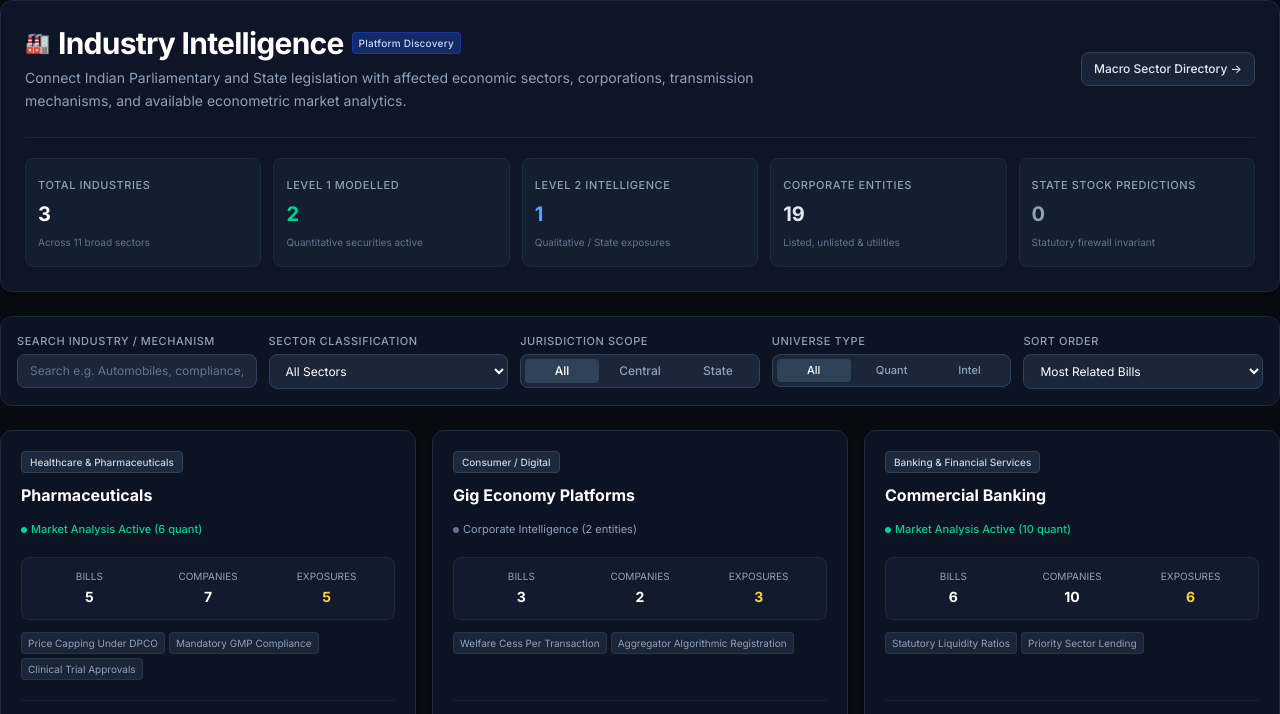
Test: IndustriesContent (Industry Discovery Page) › filters industries by jurisdiction tab and shows statutory notice
The width and height of the screenshot is (1280, 714).
Expected: the link "Commercial Banking" is shown, [885,485,1046,505]
Note: Click "State" filter button
Click the button "State" at (718, 371), box [681,359,755,383]
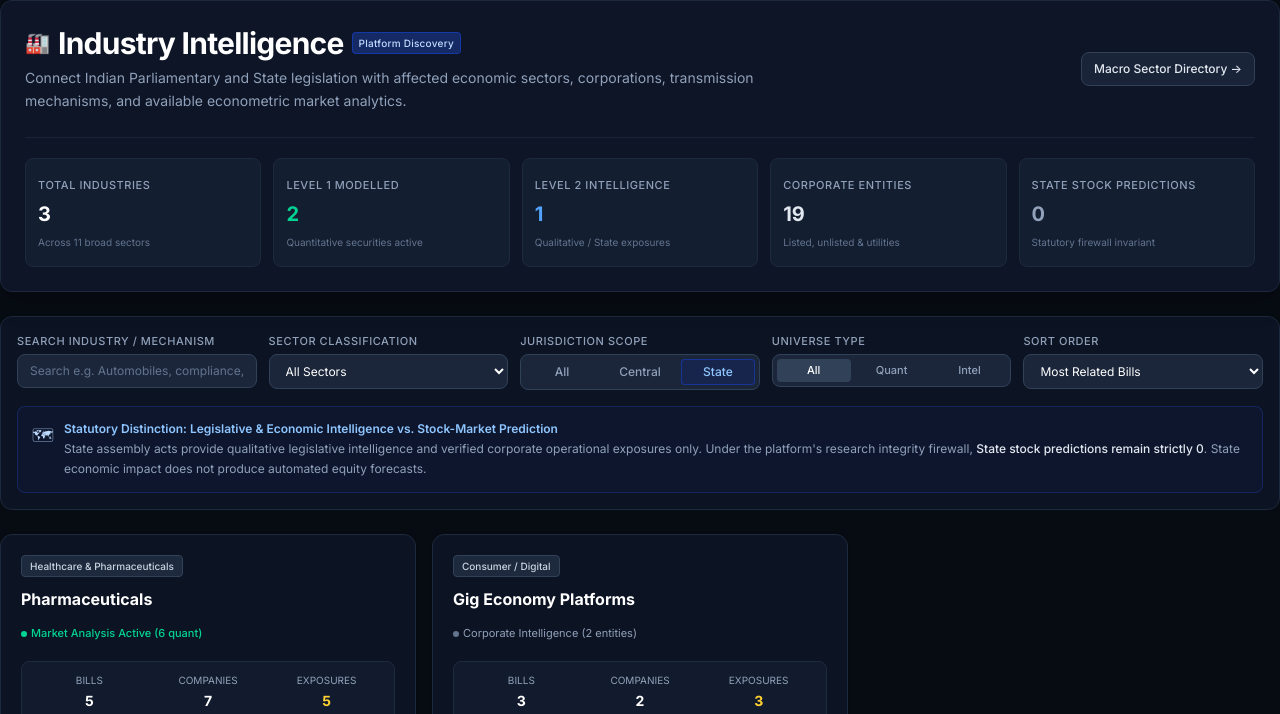
Expected: the link "Gig Economy Platforms" is shown, [453,589,635,609]
Now the link "Commercial Banking" is gone
Now the text "State stock predictions remain strictly 0" is shown, box [976,441,1204,456]
